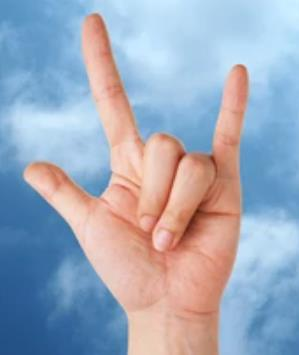back: (20, 12, 255, 315)
